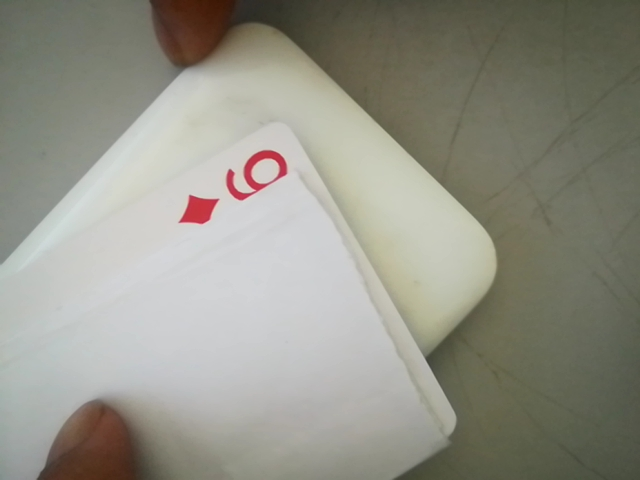fk 9: (162, 141, 300, 226)
